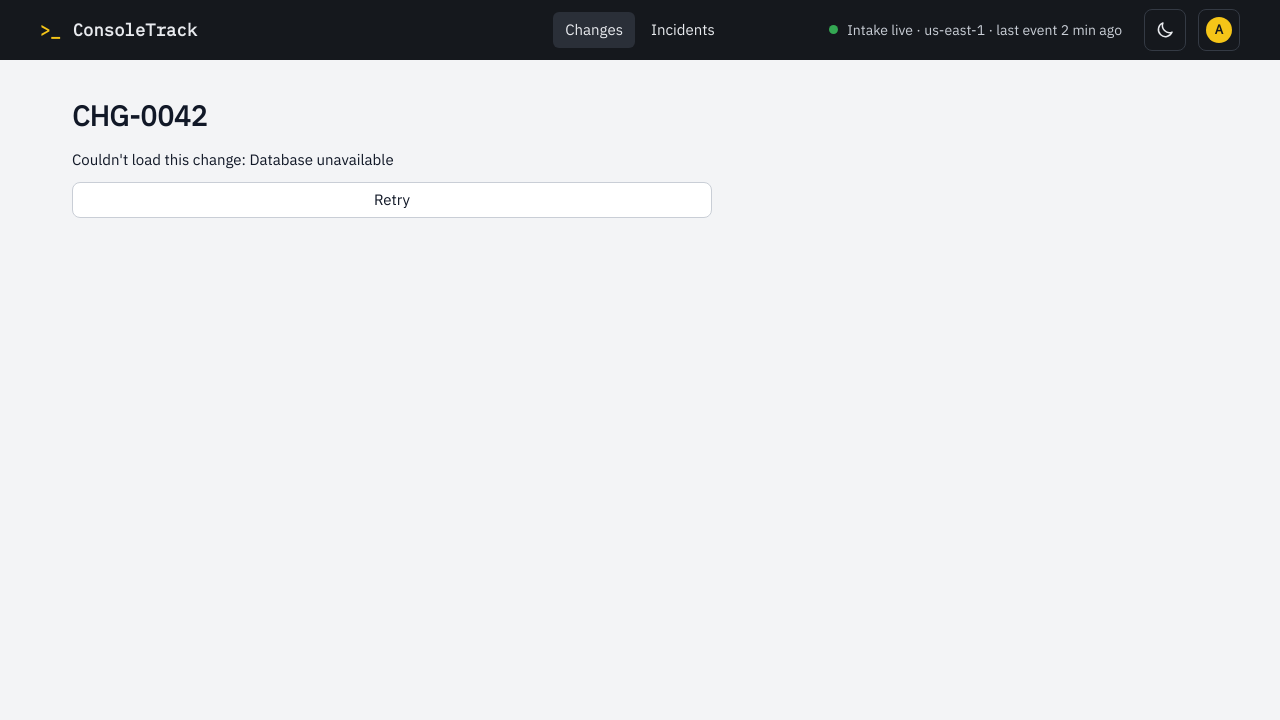
Test case: change detail › shows an error with Retry
Expected: the message reads "Couldn't load this change: Database unavailable", [72,150,394,169]
Click the button "Retry": (392, 200) [72,182,712,218]
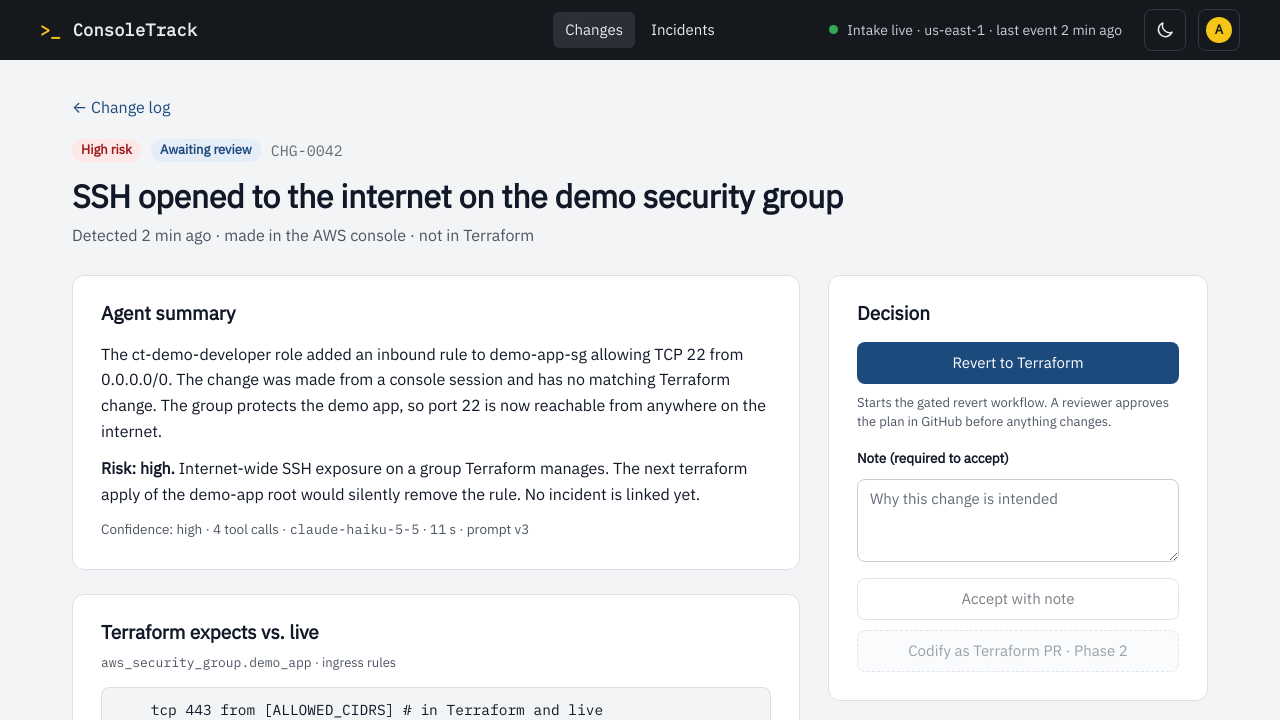
Now the heading "SSH opened to the internet on the demo security group" is shown, box [72,175,843,217]
